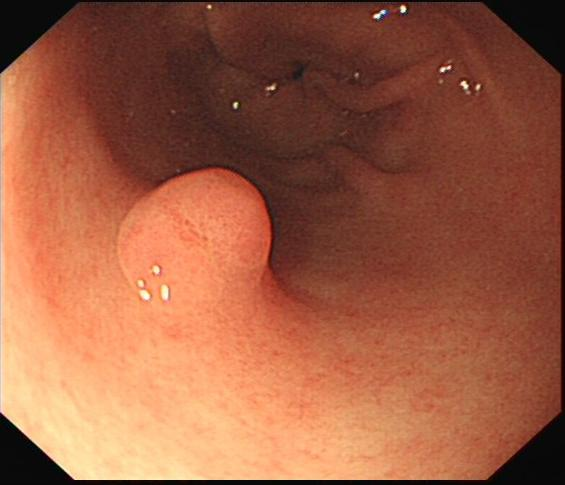Polyp: (111, 155, 276, 329)
